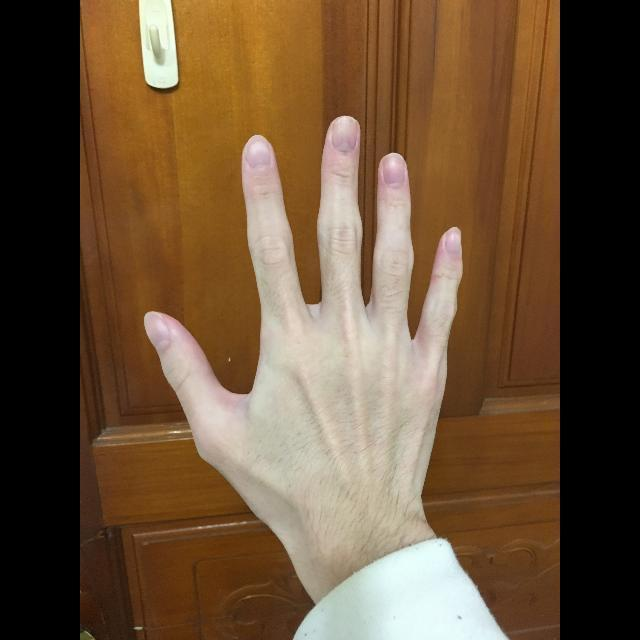bare_hand: (143, 115, 466, 500)
